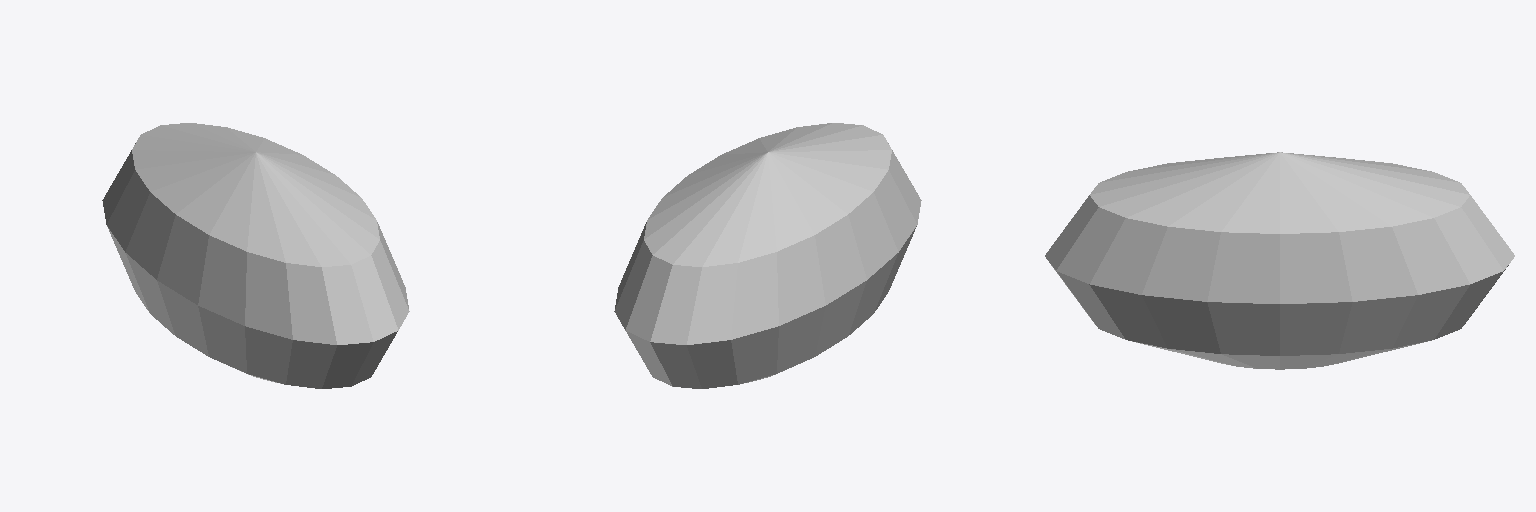
File: cloud.obj
3 views of the same model, side by side, from view 1: azimuth 30°, elevation 25°; view 2: azimuth 150°, elevation 25°; view 3: azimuth 270°, elevation 25° (orthographic).
Parts seen in each view (by area): view 1: pSphere1; view 2: pSphere1; view 3: pSphere1.
Boxes of the visible parts, box(x1,y1,x2,y2) form: pSphere1: box(102, 123, 409, 388); pSphere1: box(614, 123, 921, 388); pSphere1: box(1045, 152, 1514, 369).
Bounding box in the file's own units: 0.5805 × 0.5805 × 1.19.